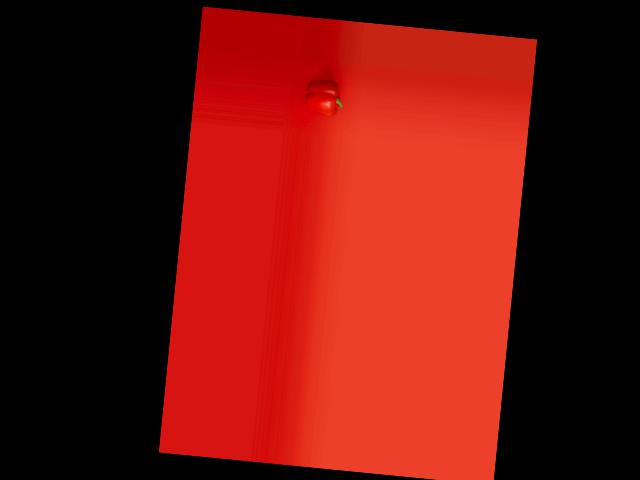bell_pepper: (301, 76, 346, 116)
